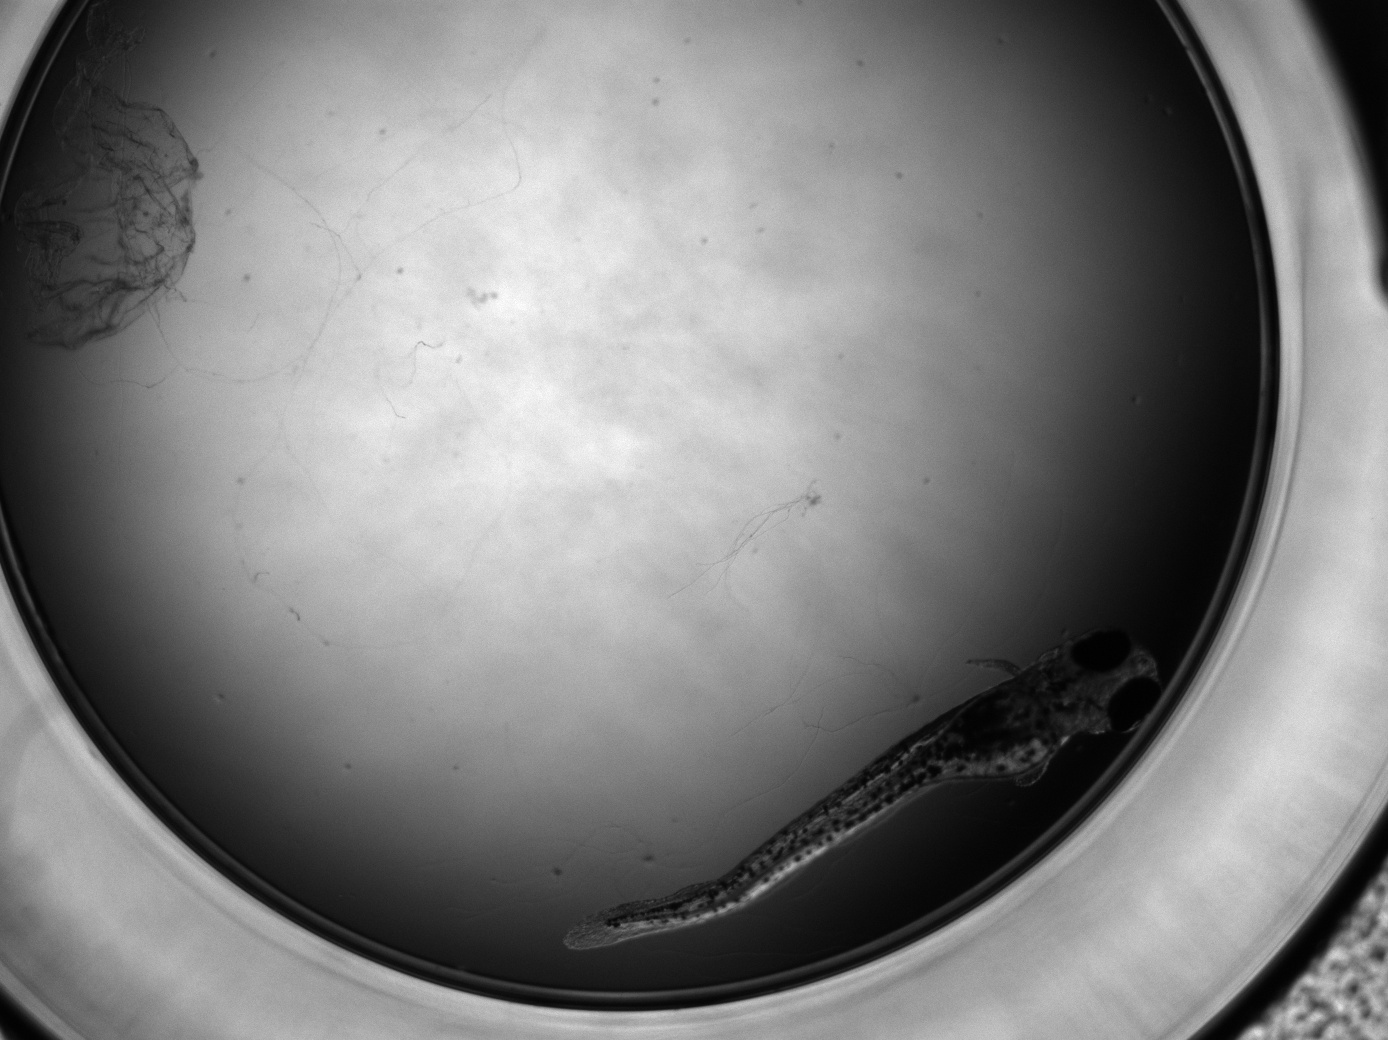debris: (4, 40, 198, 350)
embryo: (562, 625, 1160, 952)
eye: (1106, 677, 1161, 733), (1070, 626, 1132, 673)
yolksac: (948, 685, 1056, 777)
